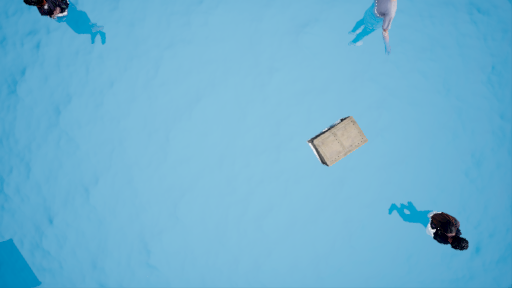person: (386, 194, 472, 258), (351, 1, 401, 59)
